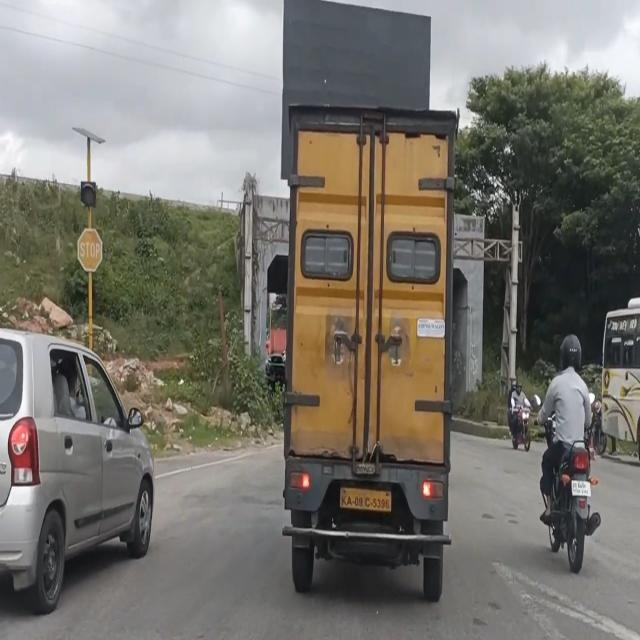bien_cam: (75, 221, 105, 276)
